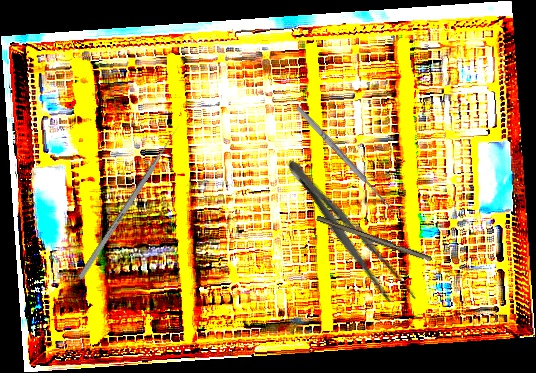Dressing Forceps: (276, 151, 421, 316)
Hook Surgical: (293, 101, 404, 217)
Pusher: (77, 124, 182, 280)
Scalpel Handle: (314, 215, 434, 264)
